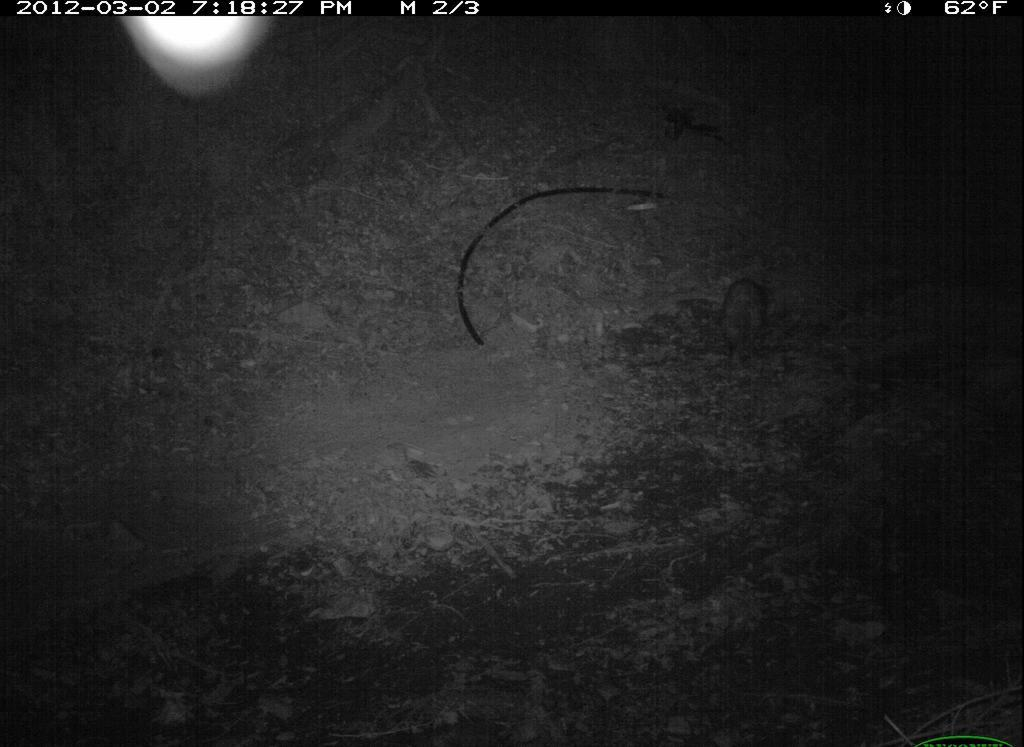opossum: (707, 263, 779, 383)
